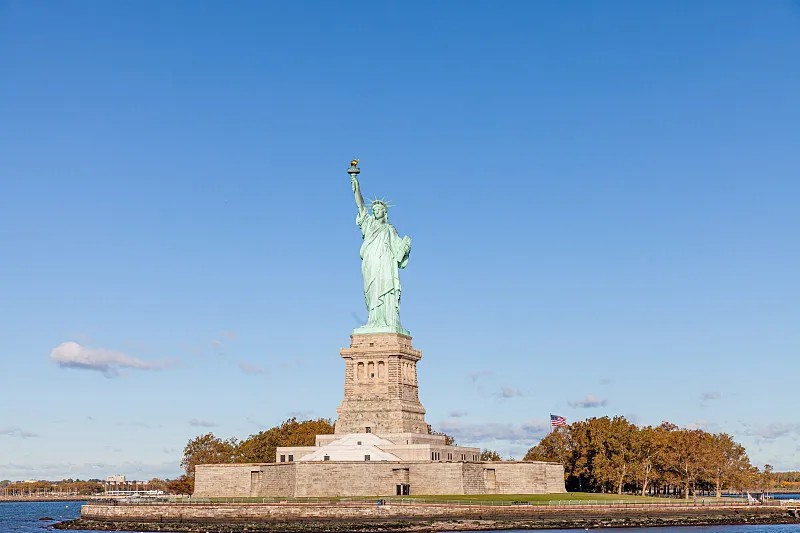SL: (334, 158, 427, 435)
